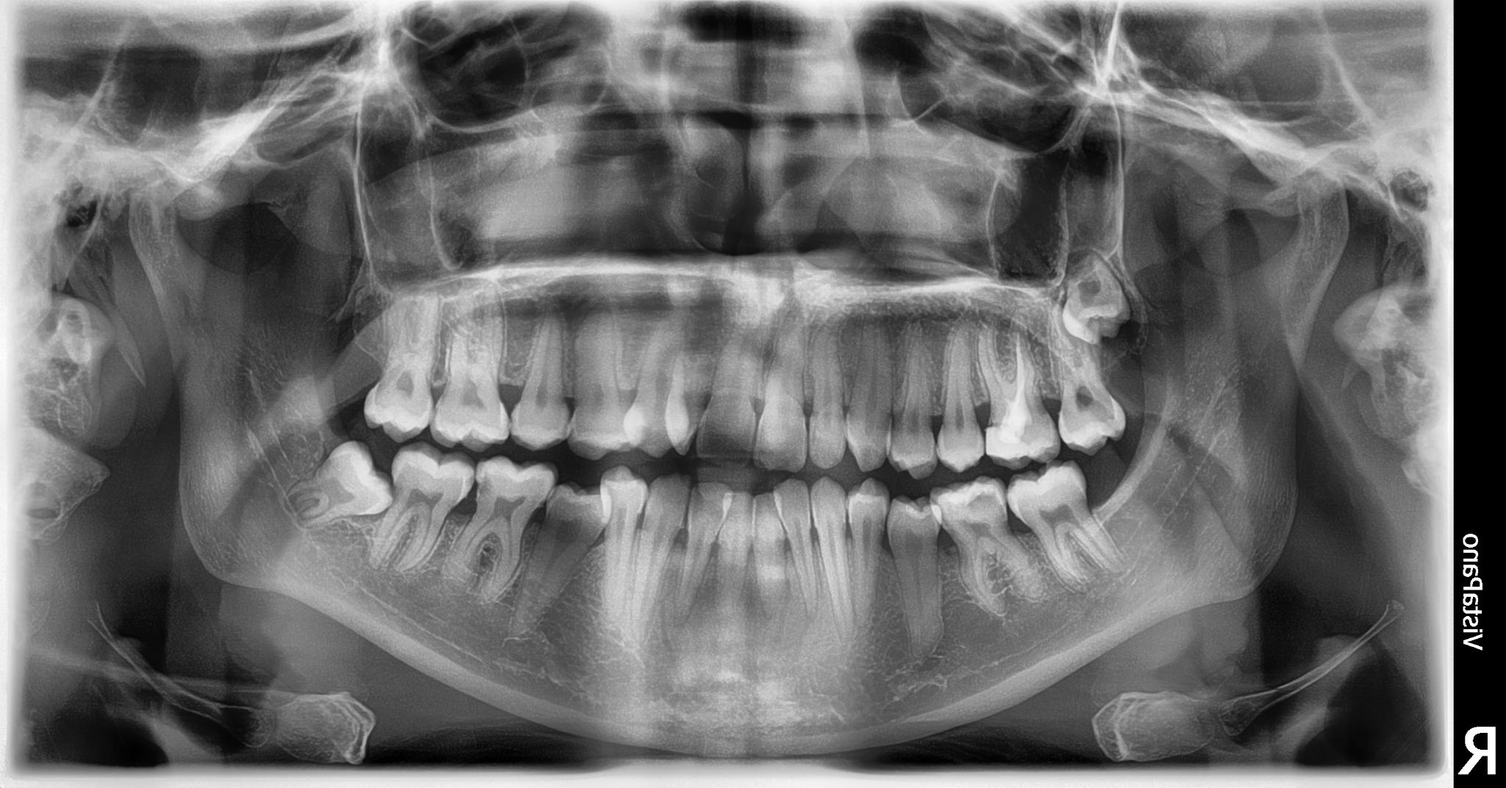Premolars: (508, 280, 1506, 757), (534, 241, 1506, 570), (588, 168, 1506, 426), (290, 227, 808, 683), (243, 235, 712, 686), (183, 203, 489, 668)
